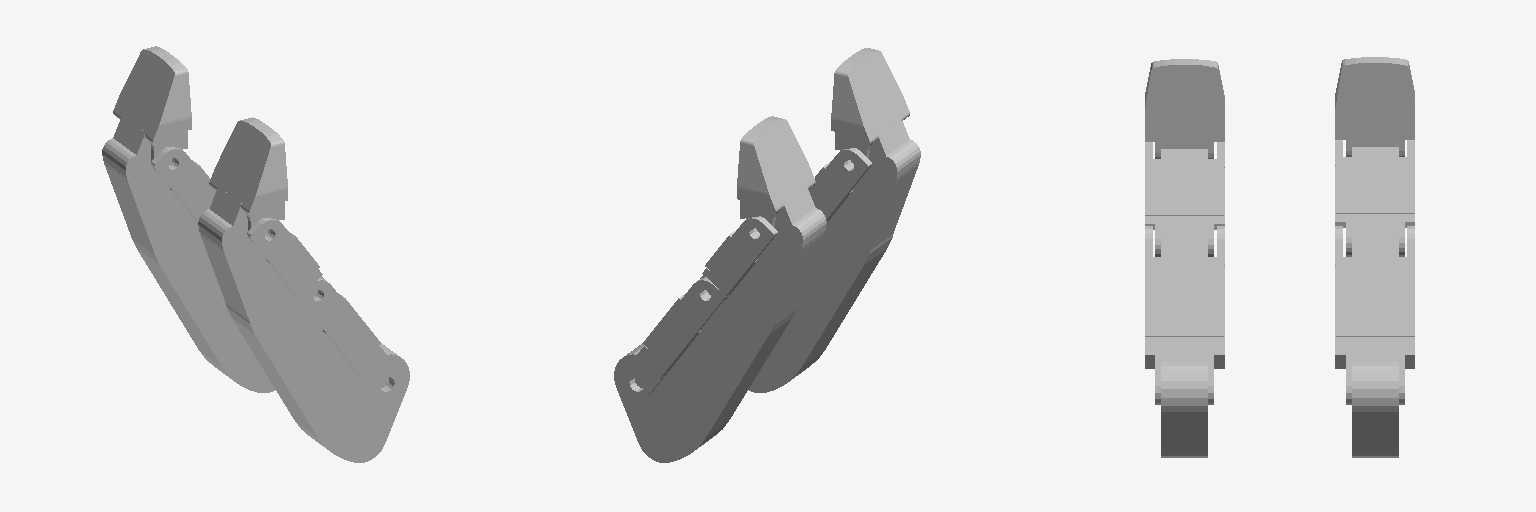
File: armL tfinger.003.obj
3 renders of one model, left to right at view 1: azimuth 30°, elevation 25°; view 2: azimuth 150°, elevation 25°; view 3: azimuth 270°, elevation 25°, orthographic.
Visible parts, largest first — view 1: collision_0_armR_tfinger_armL_tfinger.003; view 2: collision_0_armR_tfinger_armL_tfinger.003; view 3: collision_0_armR_tfinger_armL_tfinger.003.
Part boxes in pixels (x1,y1,x2,y2): collision_0_armR_tfinger_armL_tfinger.003: (102,46,409,462); collision_0_armR_tfinger_armL_tfinger.003: (614,48,920,462); collision_0_armR_tfinger_armL_tfinger.003: (1145,57,1414,457).
Bounding box in the file's own units: 0.0628 × 0.1111 × 0.0778.